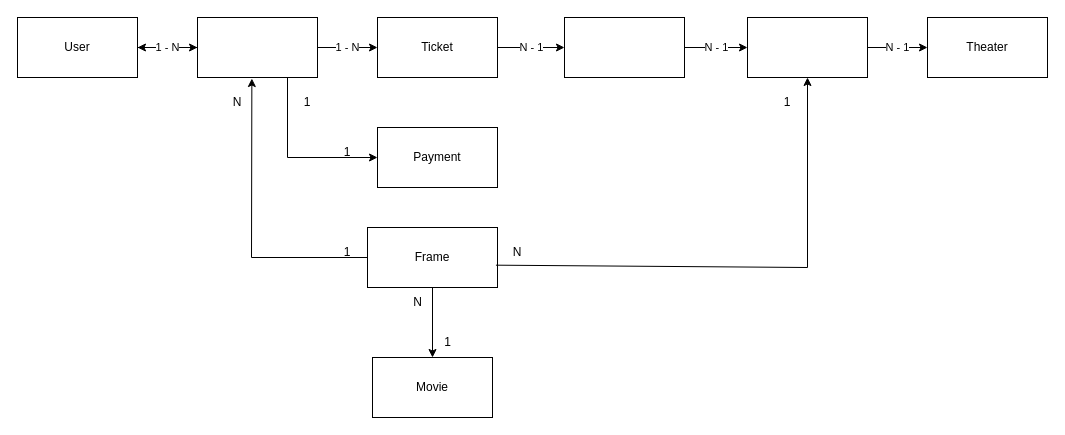
Some shapes in this 1065 by 435 pixel diagram are drawn without their labels. The shapes that lost their labels are listed below. From the top down, each one's centre as x and y in pixels, then its label:
At (x=257, y=47): "Booking".
At (x=624, y=47): "Seat".
At (x=807, y=47): "Room".
